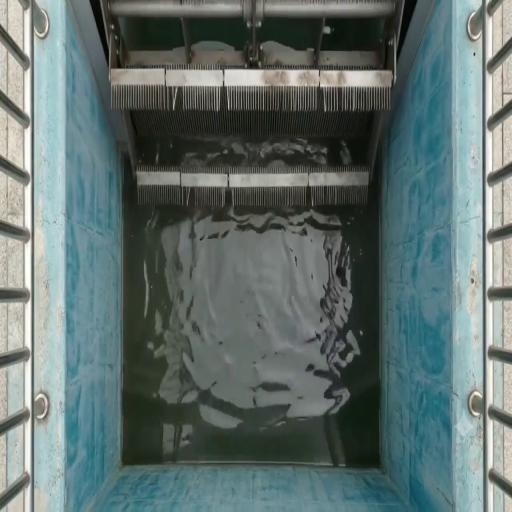rake_broken: (288, 72, 366, 130), (198, 74, 245, 128), (146, 68, 193, 120), (290, 175, 326, 223), (217, 170, 251, 218), (168, 170, 201, 214)
